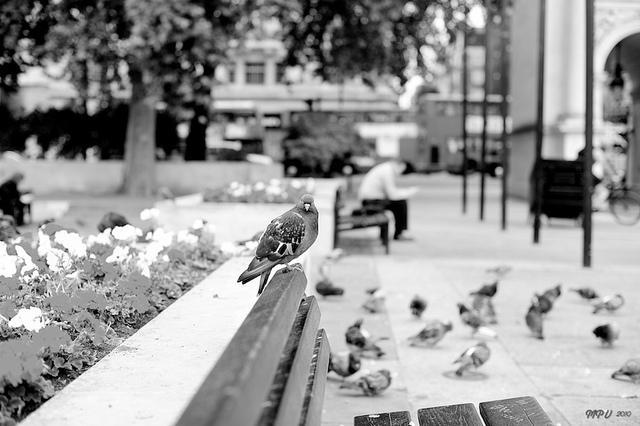bicycle: (609, 189, 639, 226)
car: (282, 142, 418, 178)
